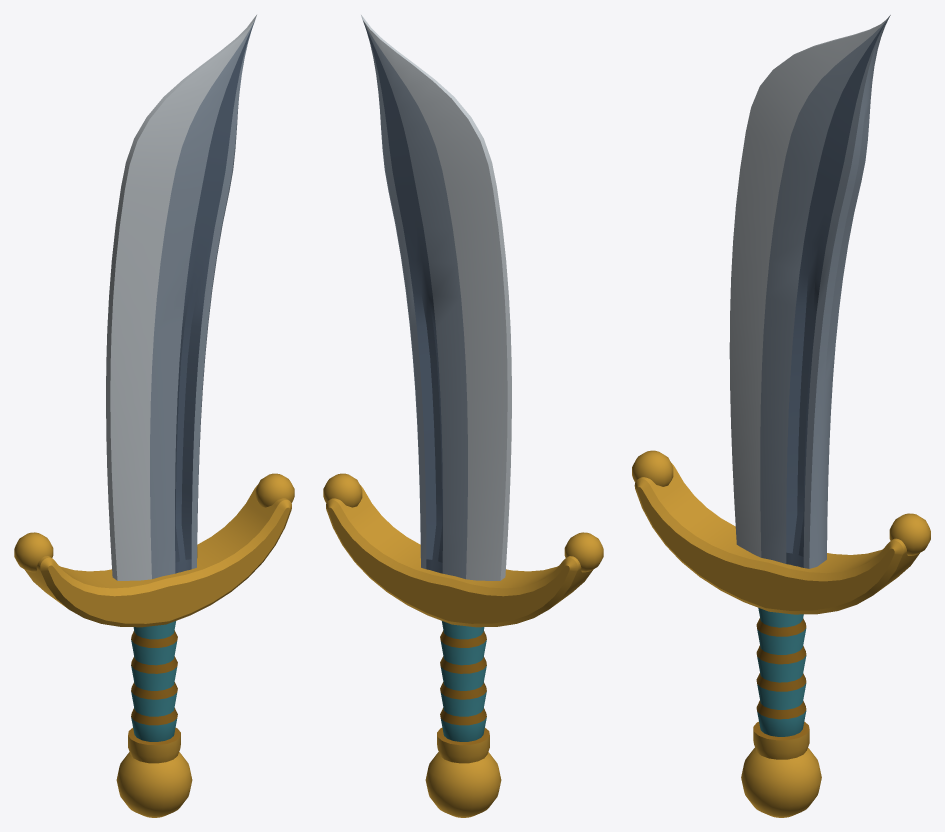
File: Scimitar_05.glb
3 views of the same model, side by side, from view 1: azimuth 30°, elevation 25°; view 2: azimuth 150°, elevation 25°; view 3: azimuth 330°, elevation 25° (orthographic). The views are drawn at different scales.
Parts seen in each view (by area): view 1: Scimitar_05; view 2: Scimitar_05; view 3: Scimitar_05.
Part boxes in pixels (x1,y1,x2,y2): Scimitar_05: (14,15,294,817); Scimitar_05: (323,15,603,817); Scimitar_05: (632,15,930,817).
Size of the model in its own units: 2.39 by 6.43 by 0.57.
